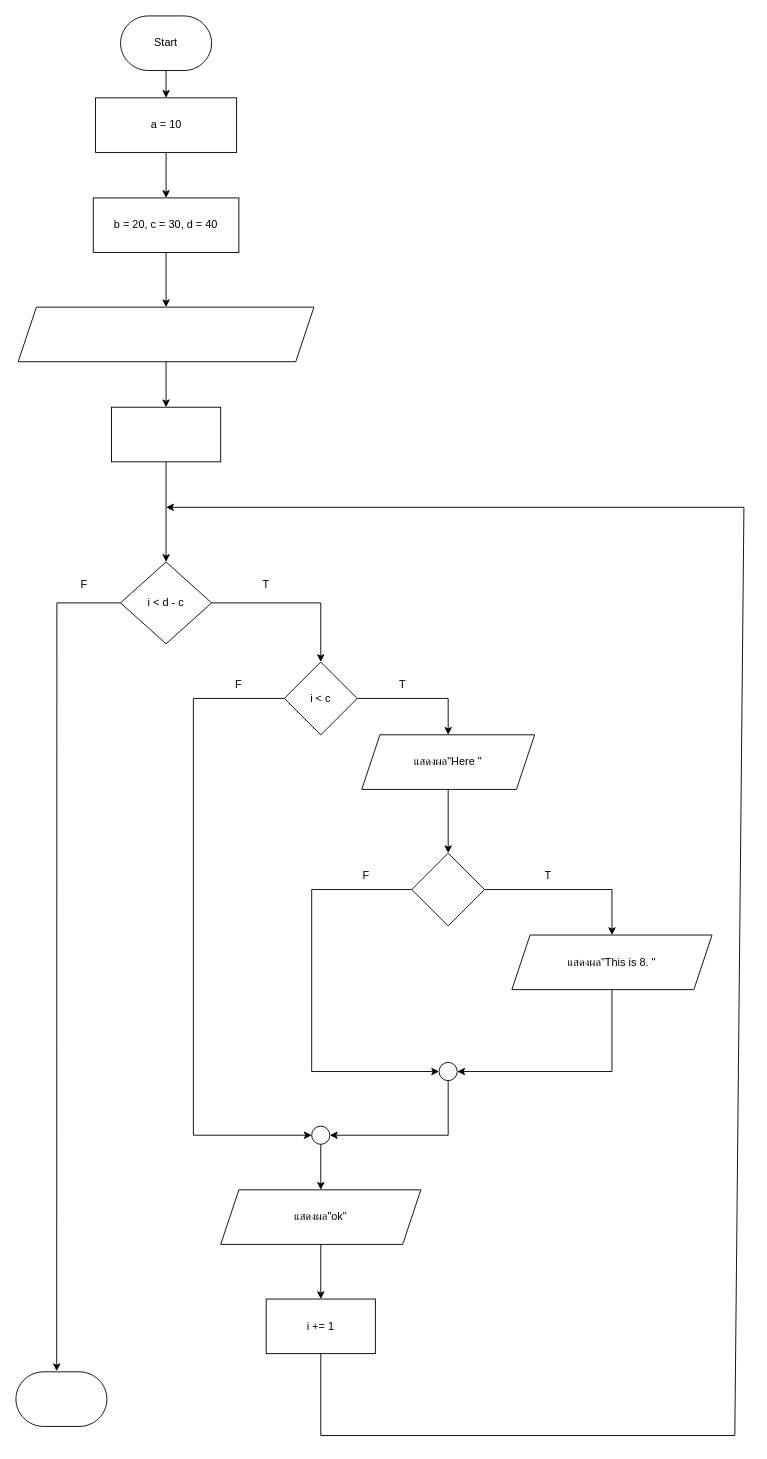
The diagram is 767 pixels wide and 1459 high, and some of its shapes have lost their labels. Each missing label, with the centre of its shape:
End: point (61, 1398)
i = 0: point (166, 434)
i == 8: point (448, 889)
แสดงผล"This is" a "+" b "= " a+b: point (165, 334)
